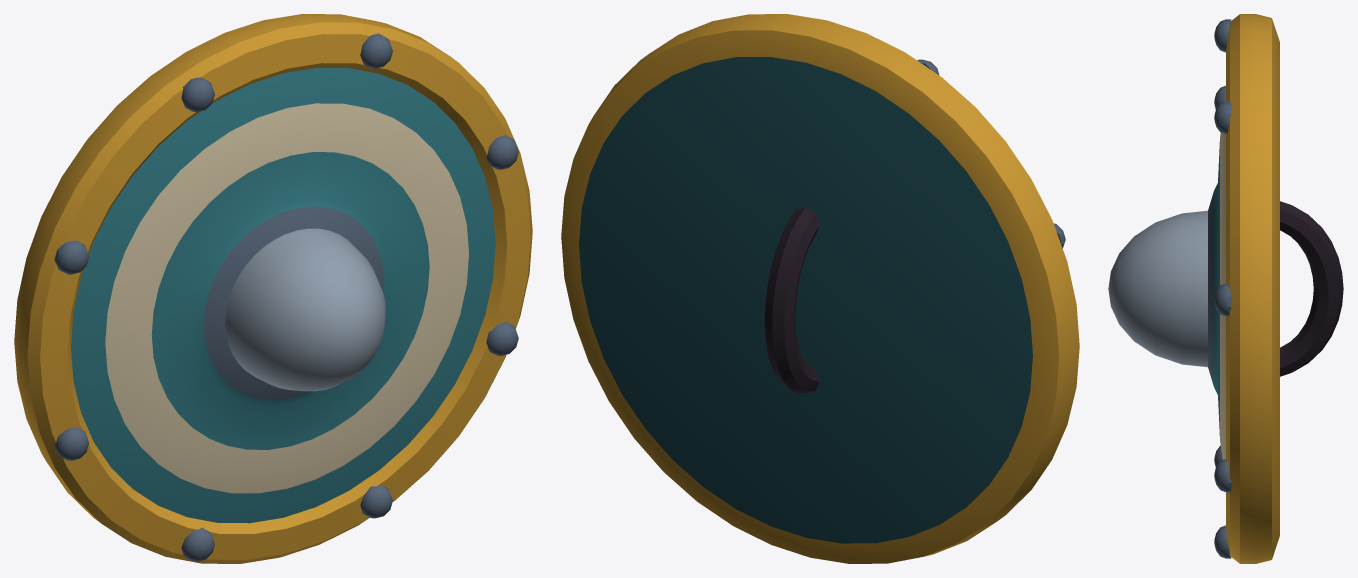
Rendered from RoundShield_19.glb.
The picture shows the model from 3 angles, left to right: view 1: azimuth 30°, elevation 25°; view 2: azimuth 150°, elevation 25°; view 3: azimuth 270°, elevation 25°; orthographic projection. The views are drawn at different scales.
Parts seen in each view (by area): view 1: RoundShield_19; view 2: RoundShield_19; view 3: RoundShield_19.
Boxes of the visible parts, x1=… form: RoundShield_19: x1=14, y1=14, x2=532, y2=563; RoundShield_19: x1=561, y1=14, x2=1079, y2=563; RoundShield_19: x1=1108, y1=14, x2=1343, y2=563.
Size of the model in its own units: 2.76 by 2.76 by 1.18.
